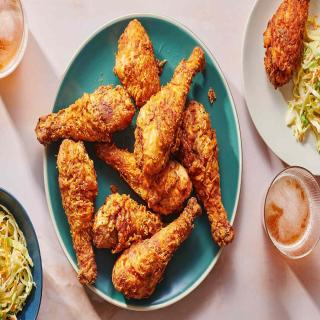fried_chicken_rice: (22, 9, 246, 315)
meat: (51, 137, 205, 304), (171, 44, 239, 261), (30, 83, 136, 149), (114, 19, 169, 115), (260, 1, 310, 94)
